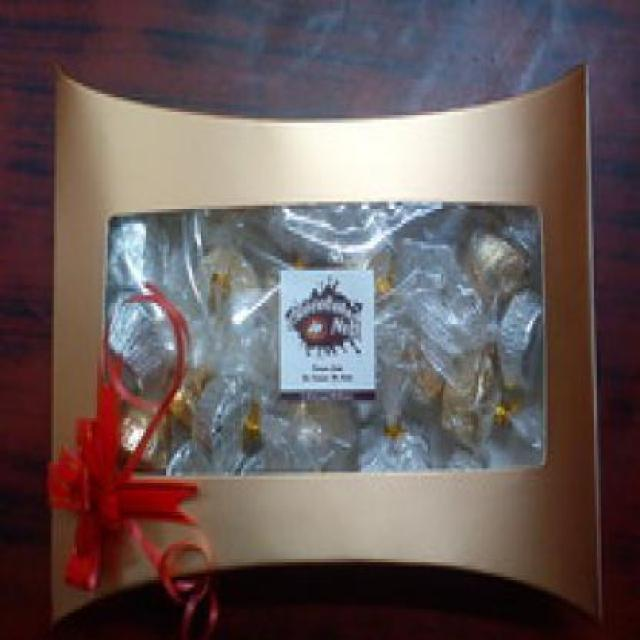box: (46, 65, 611, 640)
